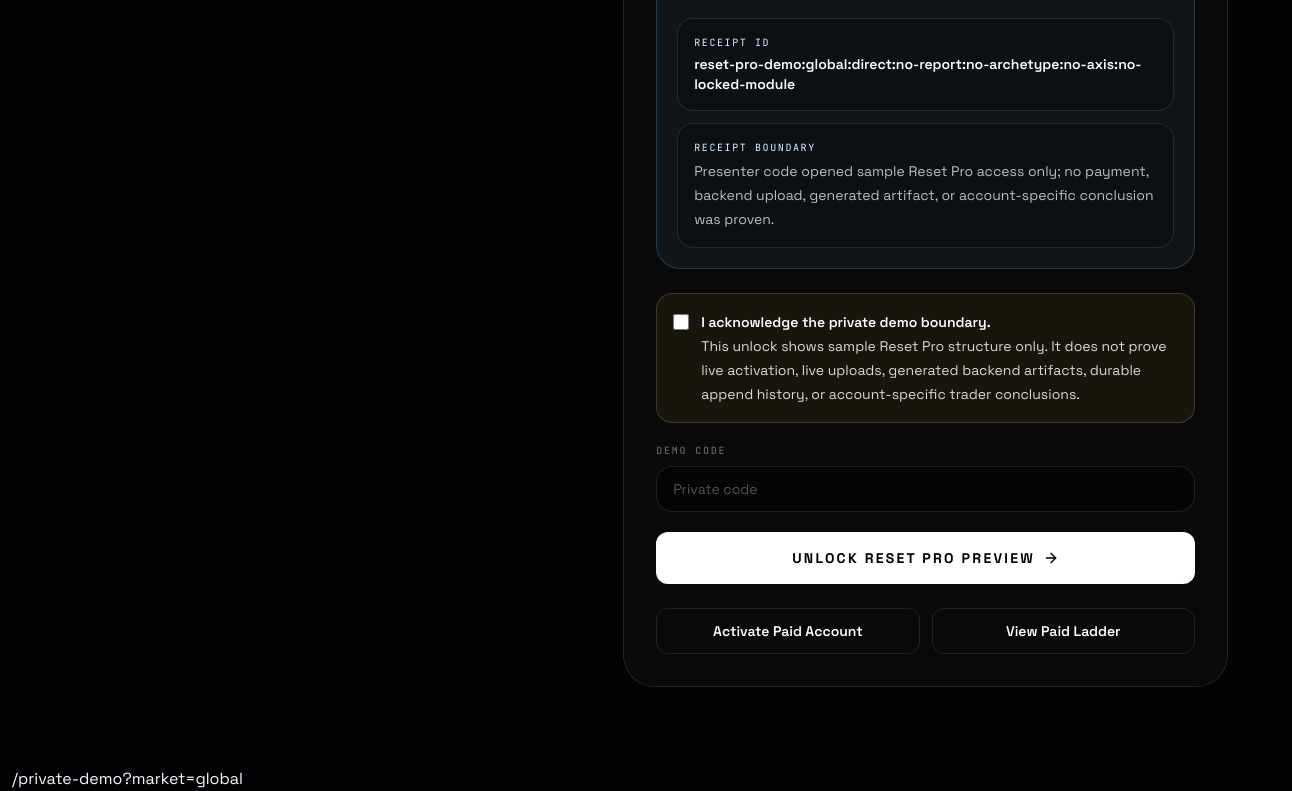
Test: PrivateDemoPage › refuses private demo unlock when no build-time code is configured
The width and height of the screenshot is (1292, 791).
(page scrolled)
Expected: the text "Receipt id" is shown, x1=694 y1=36 x2=770 y2=49
Expected: the text "reset-pro-demo:global:direct:no-report:no-archetype:no-axis:no-locked-module" is shown, x1=694 y1=54 x2=1157 y2=94
Type "anything" into the password field labelled "Demo code" at (926, 489), box x1=656 y1=466 x2=1195 y2=512
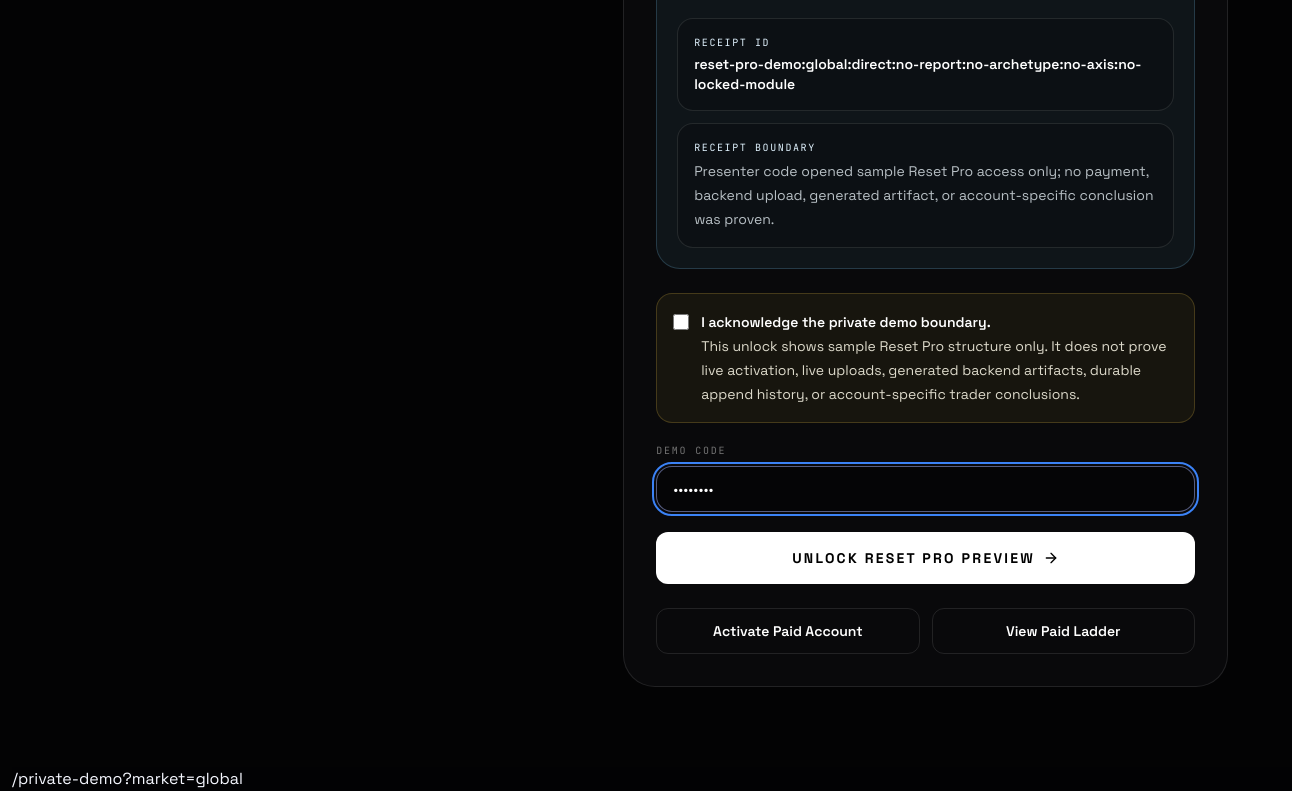
Click the button "Unlock Reset Pro Preview" at (926, 558), box x1=656 y1=532 x2=1195 y2=584
(page scrolled)
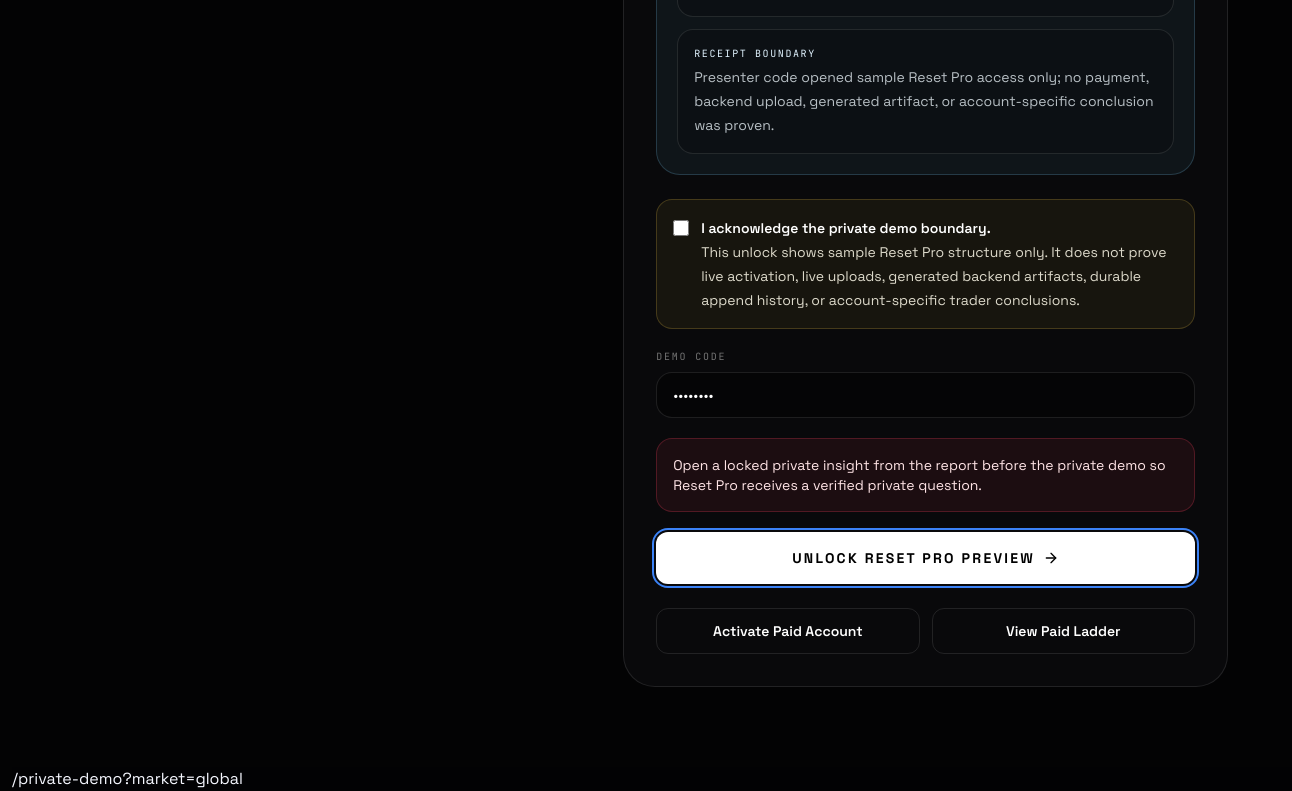
Expected: the text with test id "location" shows "/private-demo", x1=12 y1=768 x2=243 y2=789
Expected: the text "Open a locked private insight from the report before the private demo" is shown, x1=673 y1=456 x2=1166 y2=494
